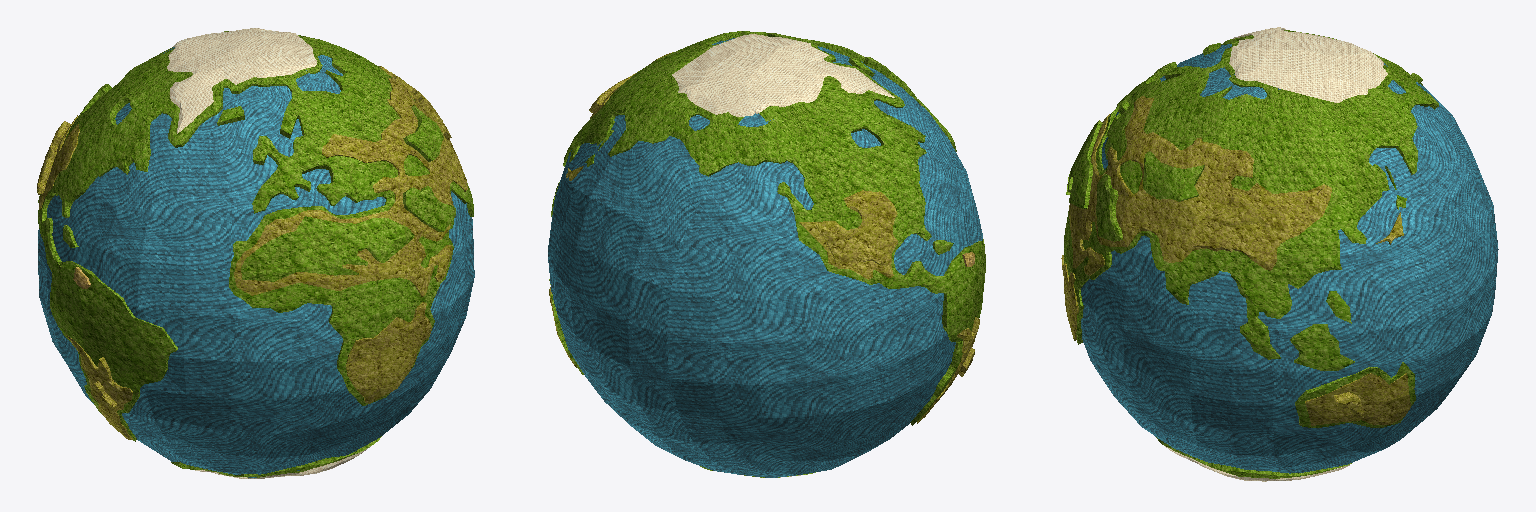
3 renders of one model, left to right at view 1: azimuth 30°, elevation 25°; view 2: azimuth 150°, elevation 25°; view 3: azimuth 270°, elevation 25°, orthographic.
Visible parts, largest first — view 1: model19192, model8222, model3242, model1162, model19982, model2882, model362, model1562, model5662, model8312, model502, model822; view 2: model19192, model8222, model19982, model5662, model502, model362; view 3: model19192, model8222, model3242, model19982, model4942, model822, model1162, model1562, model14052, model14312, model8312, model2882.
Part boxes in pixels (left/top/right/bottom): model19192: left=38, top=47, right=474, bottom=477; model8222: left=38, top=31, right=473, bottom=441; model3242: left=234, top=78, right=467, bottom=296; model1162: left=241, top=186, right=455, bottom=281; model19982: left=167, top=28, right=370, bottom=478; model2882: left=346, top=302, right=431, bottom=403; model362: left=66, top=335, right=132, bottom=439; model1562: left=403, top=105, right=443, bottom=161; model5662: left=38, top=115, right=79, bottom=209; model8312: left=171, top=436, right=381, bottom=477; model502: left=37, top=121, right=70, bottom=193; model822: left=379, top=66, right=451, bottom=139; model19192: left=548, top=38, right=982, bottom=477; model8222: left=563, top=31, right=985, bottom=425; model19982: left=672, top=34, right=894, bottom=477; model5662: left=799, top=190, right=897, bottom=279; model502: left=566, top=166, right=888, bottom=266; model362: left=917, top=317, right=979, bottom=423; model19192: left=1081, top=44, right=1498, bottom=476; model8222: left=1064, top=30, right=1438, bottom=359; model3242: left=1069, top=96, right=1331, bottom=275; model19982: left=1165, top=27, right=1387, bottom=481; model4942: left=1305, top=373, right=1410, bottom=425; model822: left=1205, top=189, right=1329, bottom=237; model1162: left=1066, top=120, right=1122, bottom=241; model1562: left=1143, top=151, right=1204, bottom=201; model14052: left=1290, top=324, right=1354, bottom=370; model14312: left=1295, top=362, right=1415, bottom=427; model8312: left=1156, top=437, right=1351, bottom=478; model2882: left=1061, top=255, right=1078, bottom=340.
Bounding box in the file's own units: 1.53 × 1.54 × 1.49.
Materials: 5 (5 with a texture image).